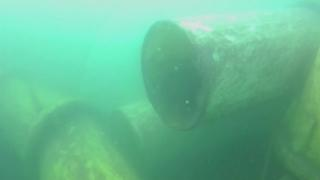pipe: (142, 5, 320, 132), (111, 100, 278, 166), (1, 71, 89, 164), (262, 47, 320, 179), (36, 114, 142, 180)
